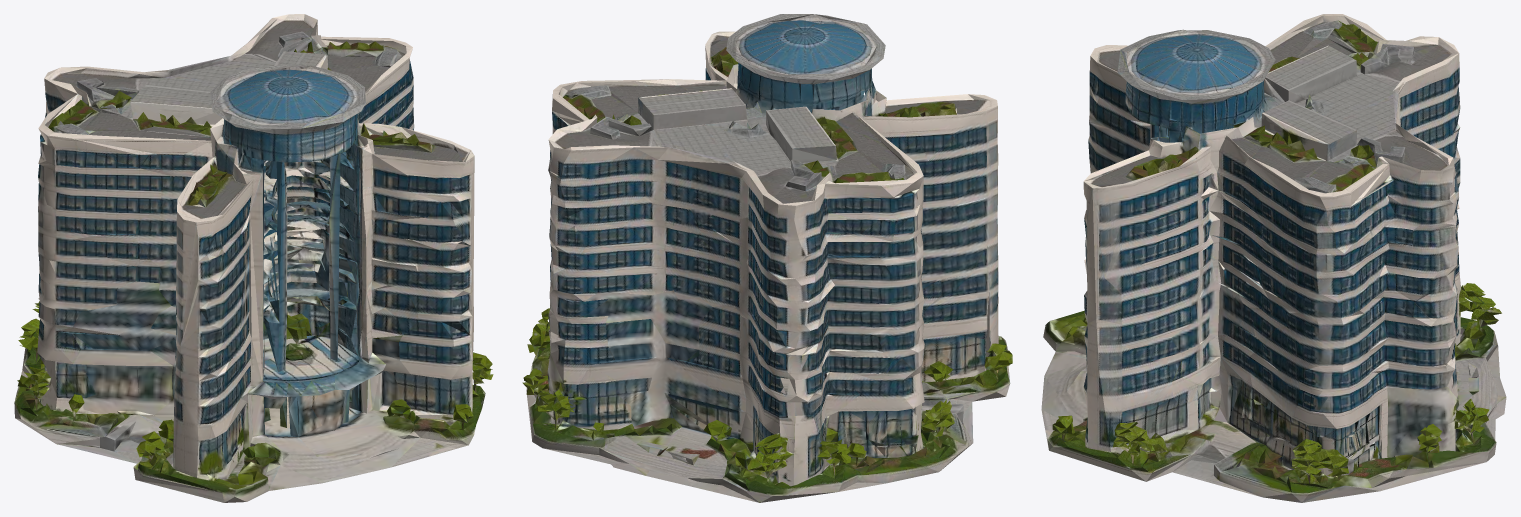
File: cybertower.glb
3 renders of one model, left to right at view 1: azimuth 30°, elevation 25°; view 2: azimuth 150°, elevation 25°; view 3: azimuth 270°, elevation 25°, orthographic. The views are drawn at different scales.
Bounding box in the file's own units: 1.9 × 1.45 × 1.76.
1 material, 1 textured.
